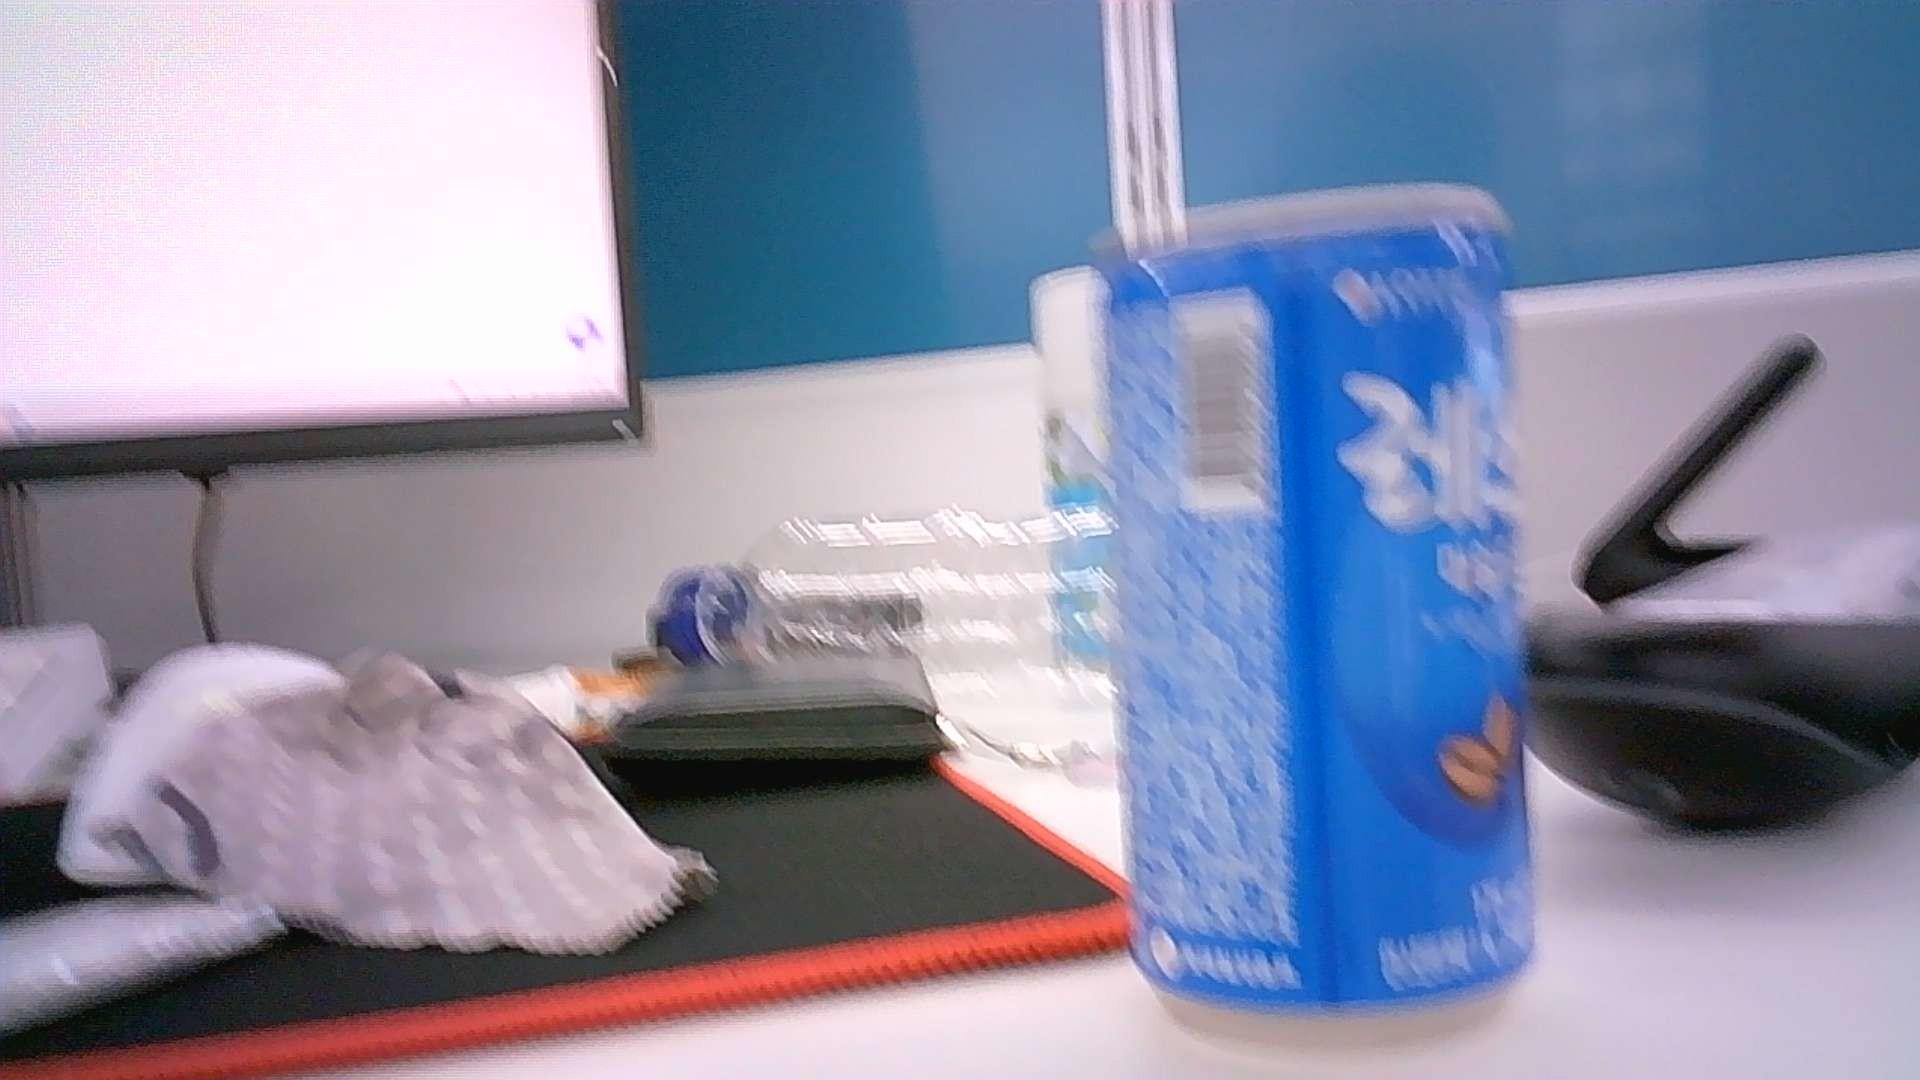letsbe: (1093, 179, 1538, 1027)
